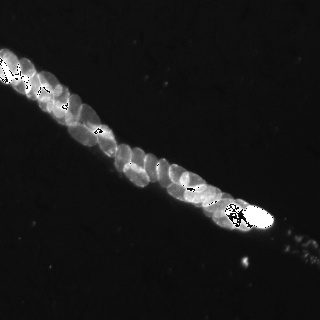embryo: (66, 122, 98, 146), (45, 102, 74, 127), (226, 206, 254, 230), (97, 125, 118, 157), (245, 205, 274, 228), (167, 183, 200, 203), (37, 71, 64, 95), (79, 104, 101, 133), (124, 163, 149, 188), (31, 72, 52, 101), (186, 184, 216, 204), (154, 158, 174, 188), (52, 84, 70, 117), (113, 143, 133, 172), (65, 94, 83, 126), (193, 188, 221, 208), (204, 198, 235, 216), (203, 193, 234, 211), (180, 172, 207, 190), (143, 155, 160, 183), (212, 208, 237, 227), (24, 69, 40, 98), (168, 164, 189, 186), (38, 84, 55, 111), (10, 74, 32, 94), (130, 148, 148, 172), (18, 57, 35, 79)
